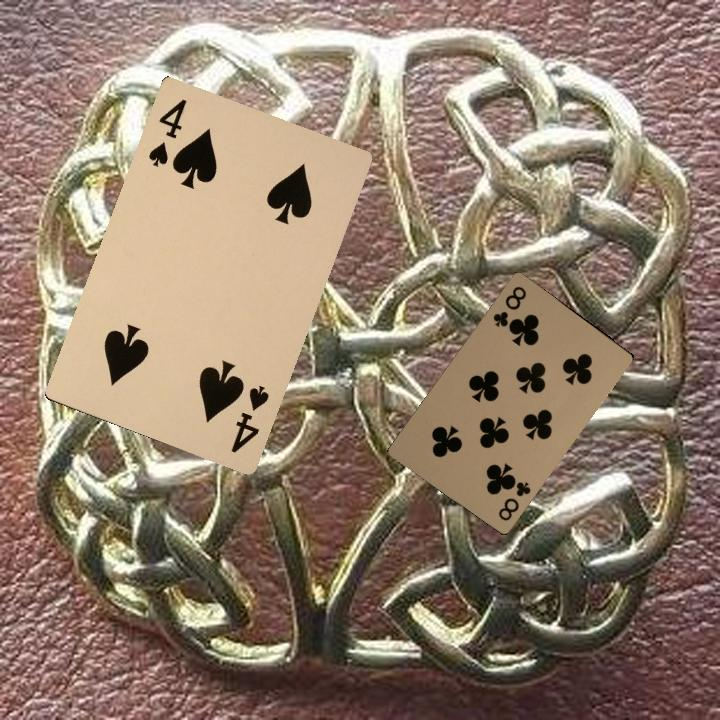4s: (226, 381, 272, 456), (144, 95, 190, 170)
8c: (494, 475, 534, 524), (489, 282, 529, 329)
